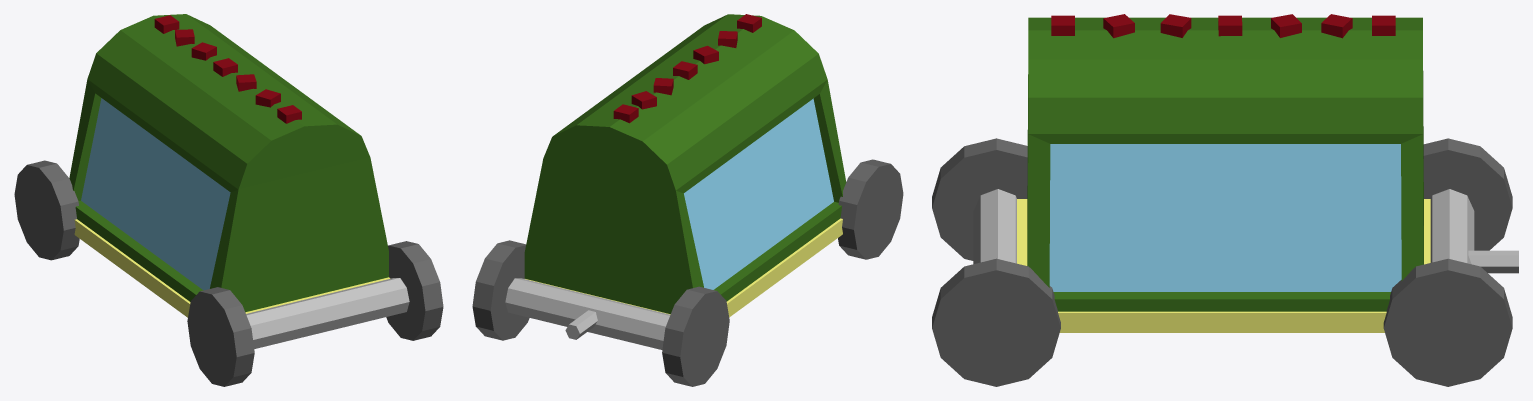
The model's file is train3.fbx.
3 renders of one model, left to right at view 1: azimuth 30°, elevation 25°; view 2: azimuth 150°, elevation 25°; view 3: azimuth 270°, elevation 25°, orthographic. The views are drawn at different scales.
Visible parts, largest first — view 1: train3; view 2: train3; view 3: train3.
Part boxes in pixels (box(x1,y1,x2,y2)): train3: box(14, 14, 443, 386); train3: box(472, 14, 903, 386); train3: box(932, 14, 1518, 386).
Size of the model in its own units: 163 by 174 by 307.
